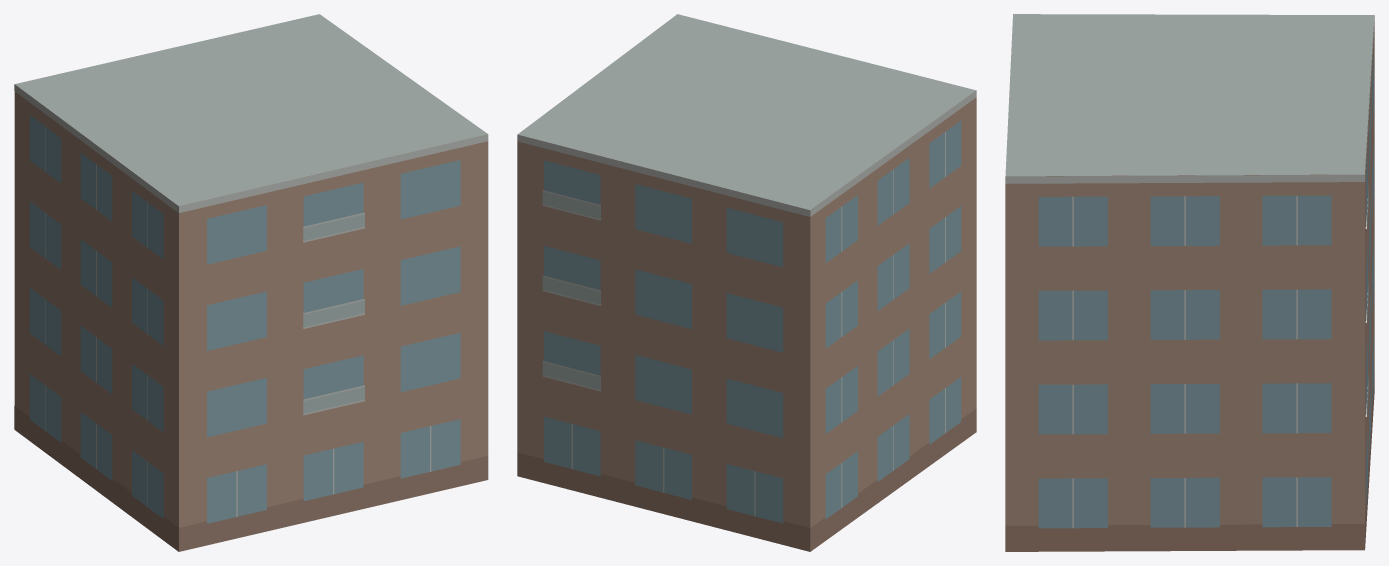
Rendered from survey-upis-32814388.glb.
3 renders of one model, left to right at view 1: azimuth 30°, elevation 25°; view 2: azimuth 150°, elevation 25°; view 3: azimuth 270°, elevation 25°, orthographic. The views are drawn at different scales.
Parts seen in each view (by area): view 1: survey-upis-32814388.tmp; view 2: survey-upis-32814388.tmp; view 3: survey-upis-32814388.tmp.
Part boxes in pixels (left/top/right/bottom): survey-upis-32814388.tmp: left=14, top=14, right=488, bottom=551; survey-upis-32814388.tmp: left=517, top=14, right=976, bottom=551; survey-upis-32814388.tmp: left=1005, top=14, right=1374, bottom=551.
Size of the model in its own units: 11.32 by 12.2 by 10.88.
